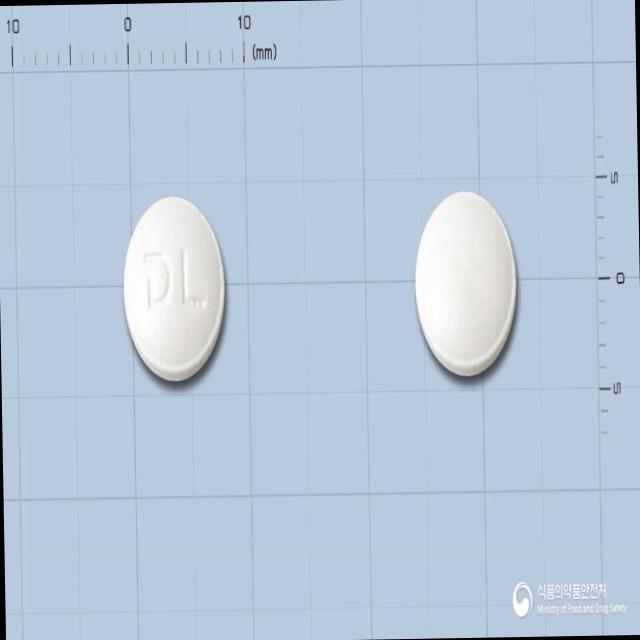Levicin: (122, 192, 228, 384)
